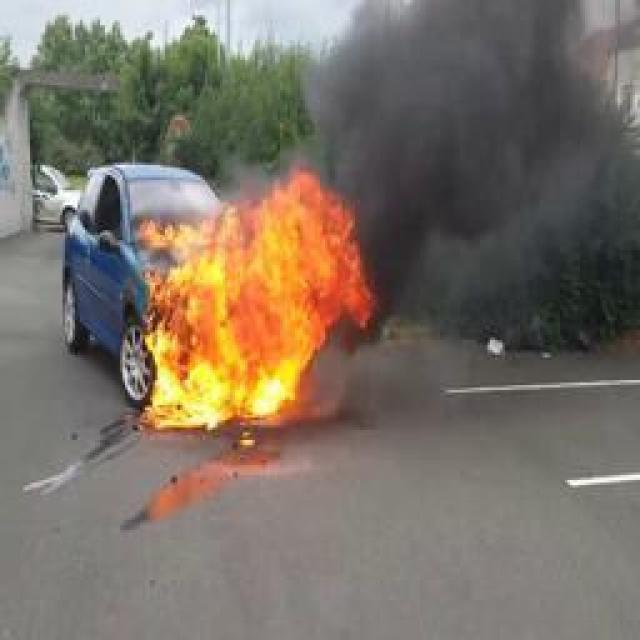Fire: (138, 165, 382, 430)
